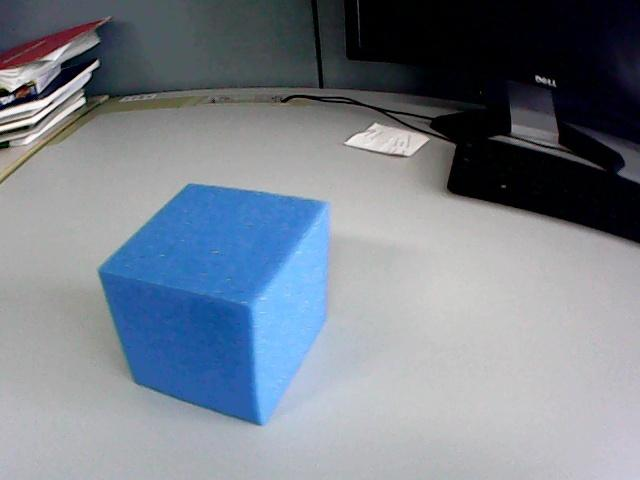blue_block: (99, 185, 329, 423)
